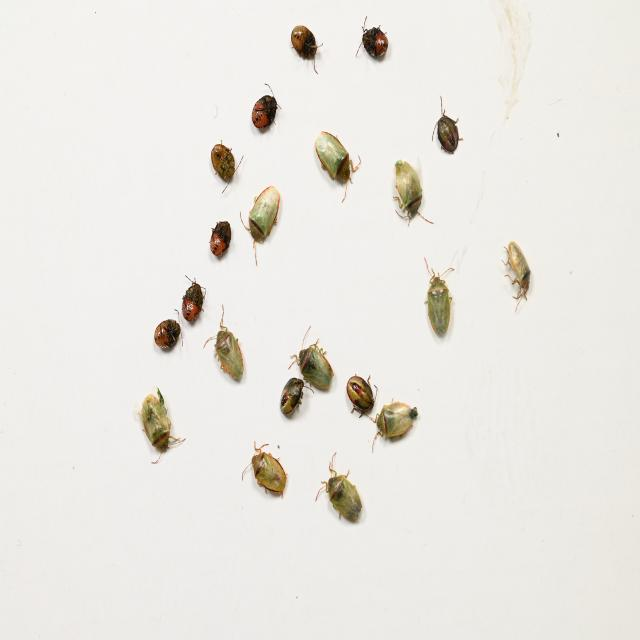stinkbug: (137, 386, 186, 466), (315, 451, 362, 530), (314, 129, 362, 202), (240, 185, 280, 266), (288, 325, 335, 392), (204, 308, 243, 384), (393, 158, 433, 230), (422, 257, 455, 341), (503, 238, 531, 314)
